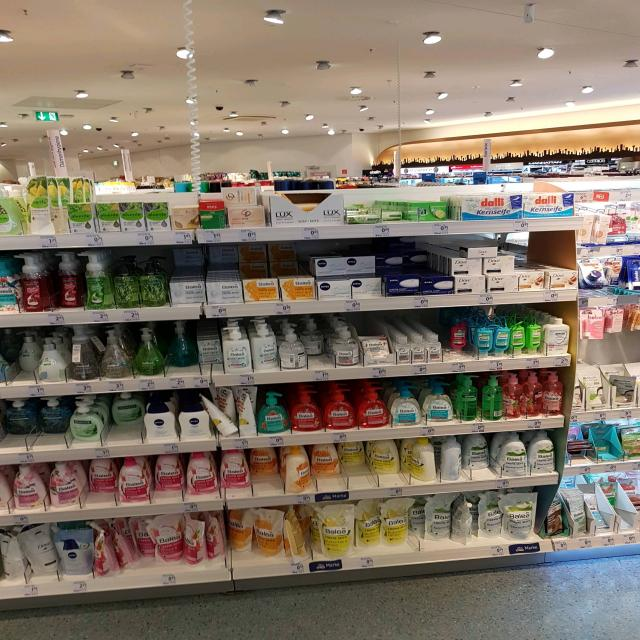unorganised: (196, 393, 238, 436), (250, 507, 285, 556), (119, 516, 156, 562), (91, 521, 120, 577), (353, 499, 385, 547), (37, 396, 75, 436), (283, 446, 314, 495), (164, 323, 199, 366), (3, 398, 42, 436), (381, 495, 410, 545), (181, 514, 208, 565), (223, 510, 256, 551), (370, 437, 405, 474), (221, 449, 253, 488), (281, 508, 307, 556), (410, 438, 438, 482), (106, 393, 144, 425), (16, 329, 43, 373), (152, 455, 184, 489), (462, 432, 490, 469), (453, 497, 475, 543), (86, 460, 118, 490), (247, 447, 281, 475), (301, 316, 325, 355), (193, 340, 225, 366), (336, 440, 368, 466), (205, 517, 228, 553), (310, 445, 338, 473), (405, 253, 437, 275), (457, 243, 501, 258), (449, 317, 469, 350), (375, 253, 404, 271), (381, 209, 404, 220)
